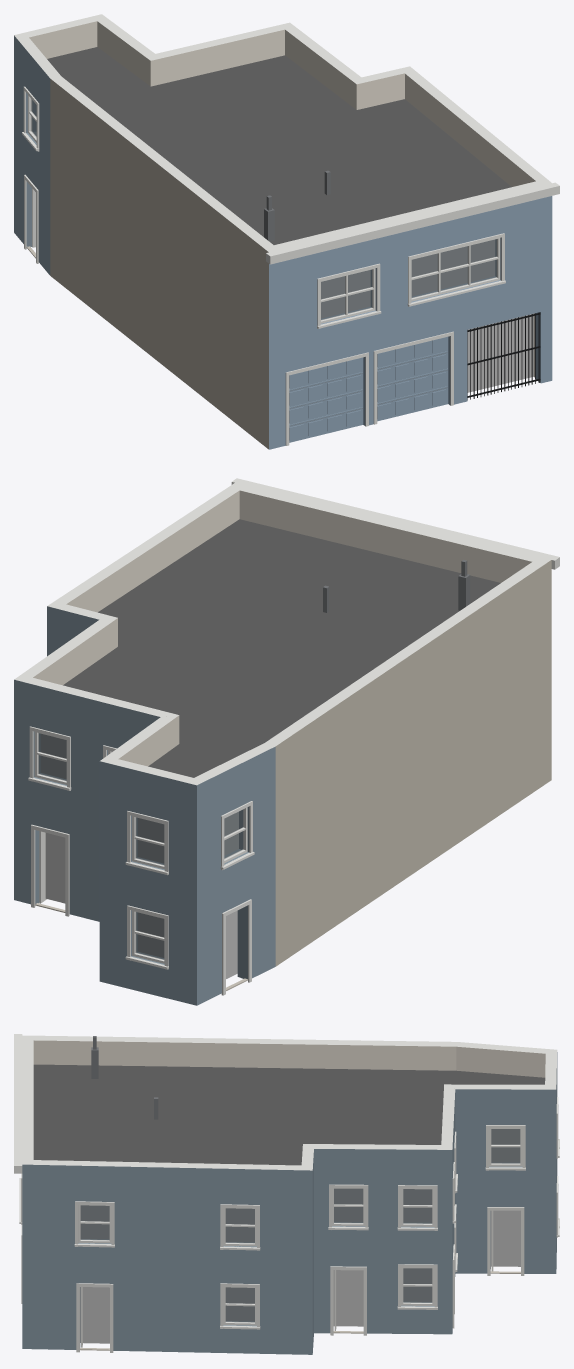
Rendered from exterior.glb.
The picture shows the model from 3 angles, top to bottom: view 1: azimuth 30°, elevation 25°; view 2: azimuth 150°, elevation 25°; view 3: azimuth 270°, elevation 25°; orthographic projection. The views are drawn at different scales.
Visible parts, largest first — view 1: shell, roof, doors, shadow-proxy, glazing, trim, frames; view 2: shell, roof, trim, shadow-proxy, glazing, frames, doors; view 3: shell, roof, shadow-proxy, trim, glazing, frames, doors.
Boxes of the visible parts, x1=… form: shell: x1=14, y1=14, x2=552, y2=449; roof: x1=47, y1=47, x2=559, y2=264; doors: x1=26, y1=188, x2=540, y2=445; shadow-proxy: x1=321, y1=240, x2=533, y2=392; glazing: x1=31, y1=99, x2=496, y2=319; trim: x1=22, y1=86, x2=505, y2=328; frames: x1=28, y1=95, x2=500, y2=323; shell: x1=14, y1=482, x2=551, y2=1005; roof: x1=63, y1=478, x2=559, y2=777; trim: x1=28, y1=559, x2=470, y2=995; shadow-proxy: x1=41, y1=734, x2=238, y2=978; glazing: x1=38, y1=733, x2=243, y2=959; frames: x1=34, y1=731, x2=247, y2=963; doors: x1=35, y1=831, x2=247, y2=990; shell: x1=22, y1=1035, x2=557, y2=1354; roof: x1=14, y1=1034, x2=545, y2=1173; shadow-proxy: x1=80, y1=1129, x2=520, y2=1343; trim: x1=19, y1=1036, x2=559, y2=1352; glazing: x1=80, y1=1129, x2=520, y2=1322; frames: x1=78, y1=1128, x2=522, y2=1325; doors: x1=21, y1=1210, x2=520, y2=1350.
Size of the model in its own units: 9.63 by 6.66 by 16.27.
